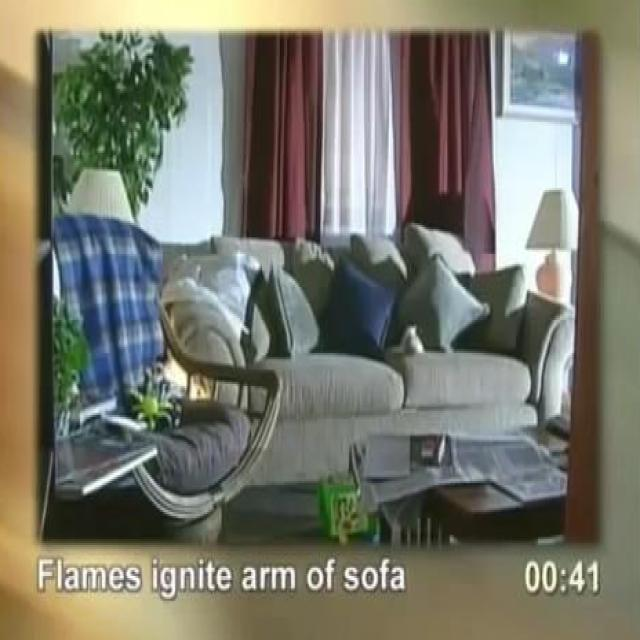smoke: (165, 344, 216, 404)
